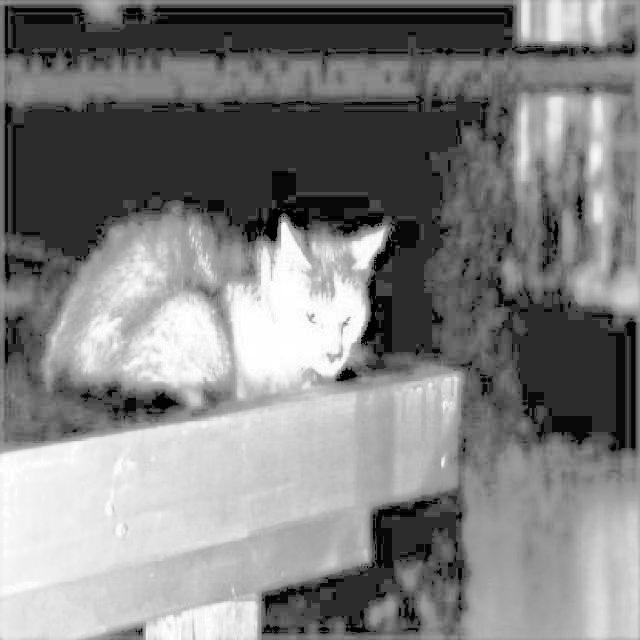Cat: (43, 191, 394, 426)
